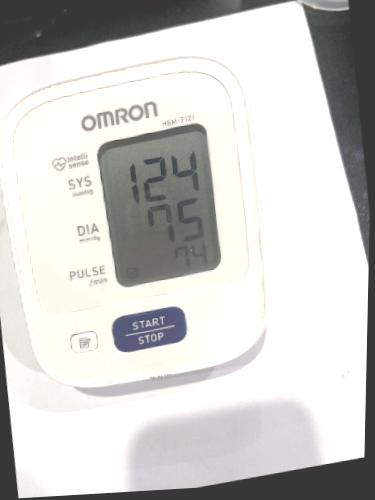bpm: (91, 118, 232, 289)
